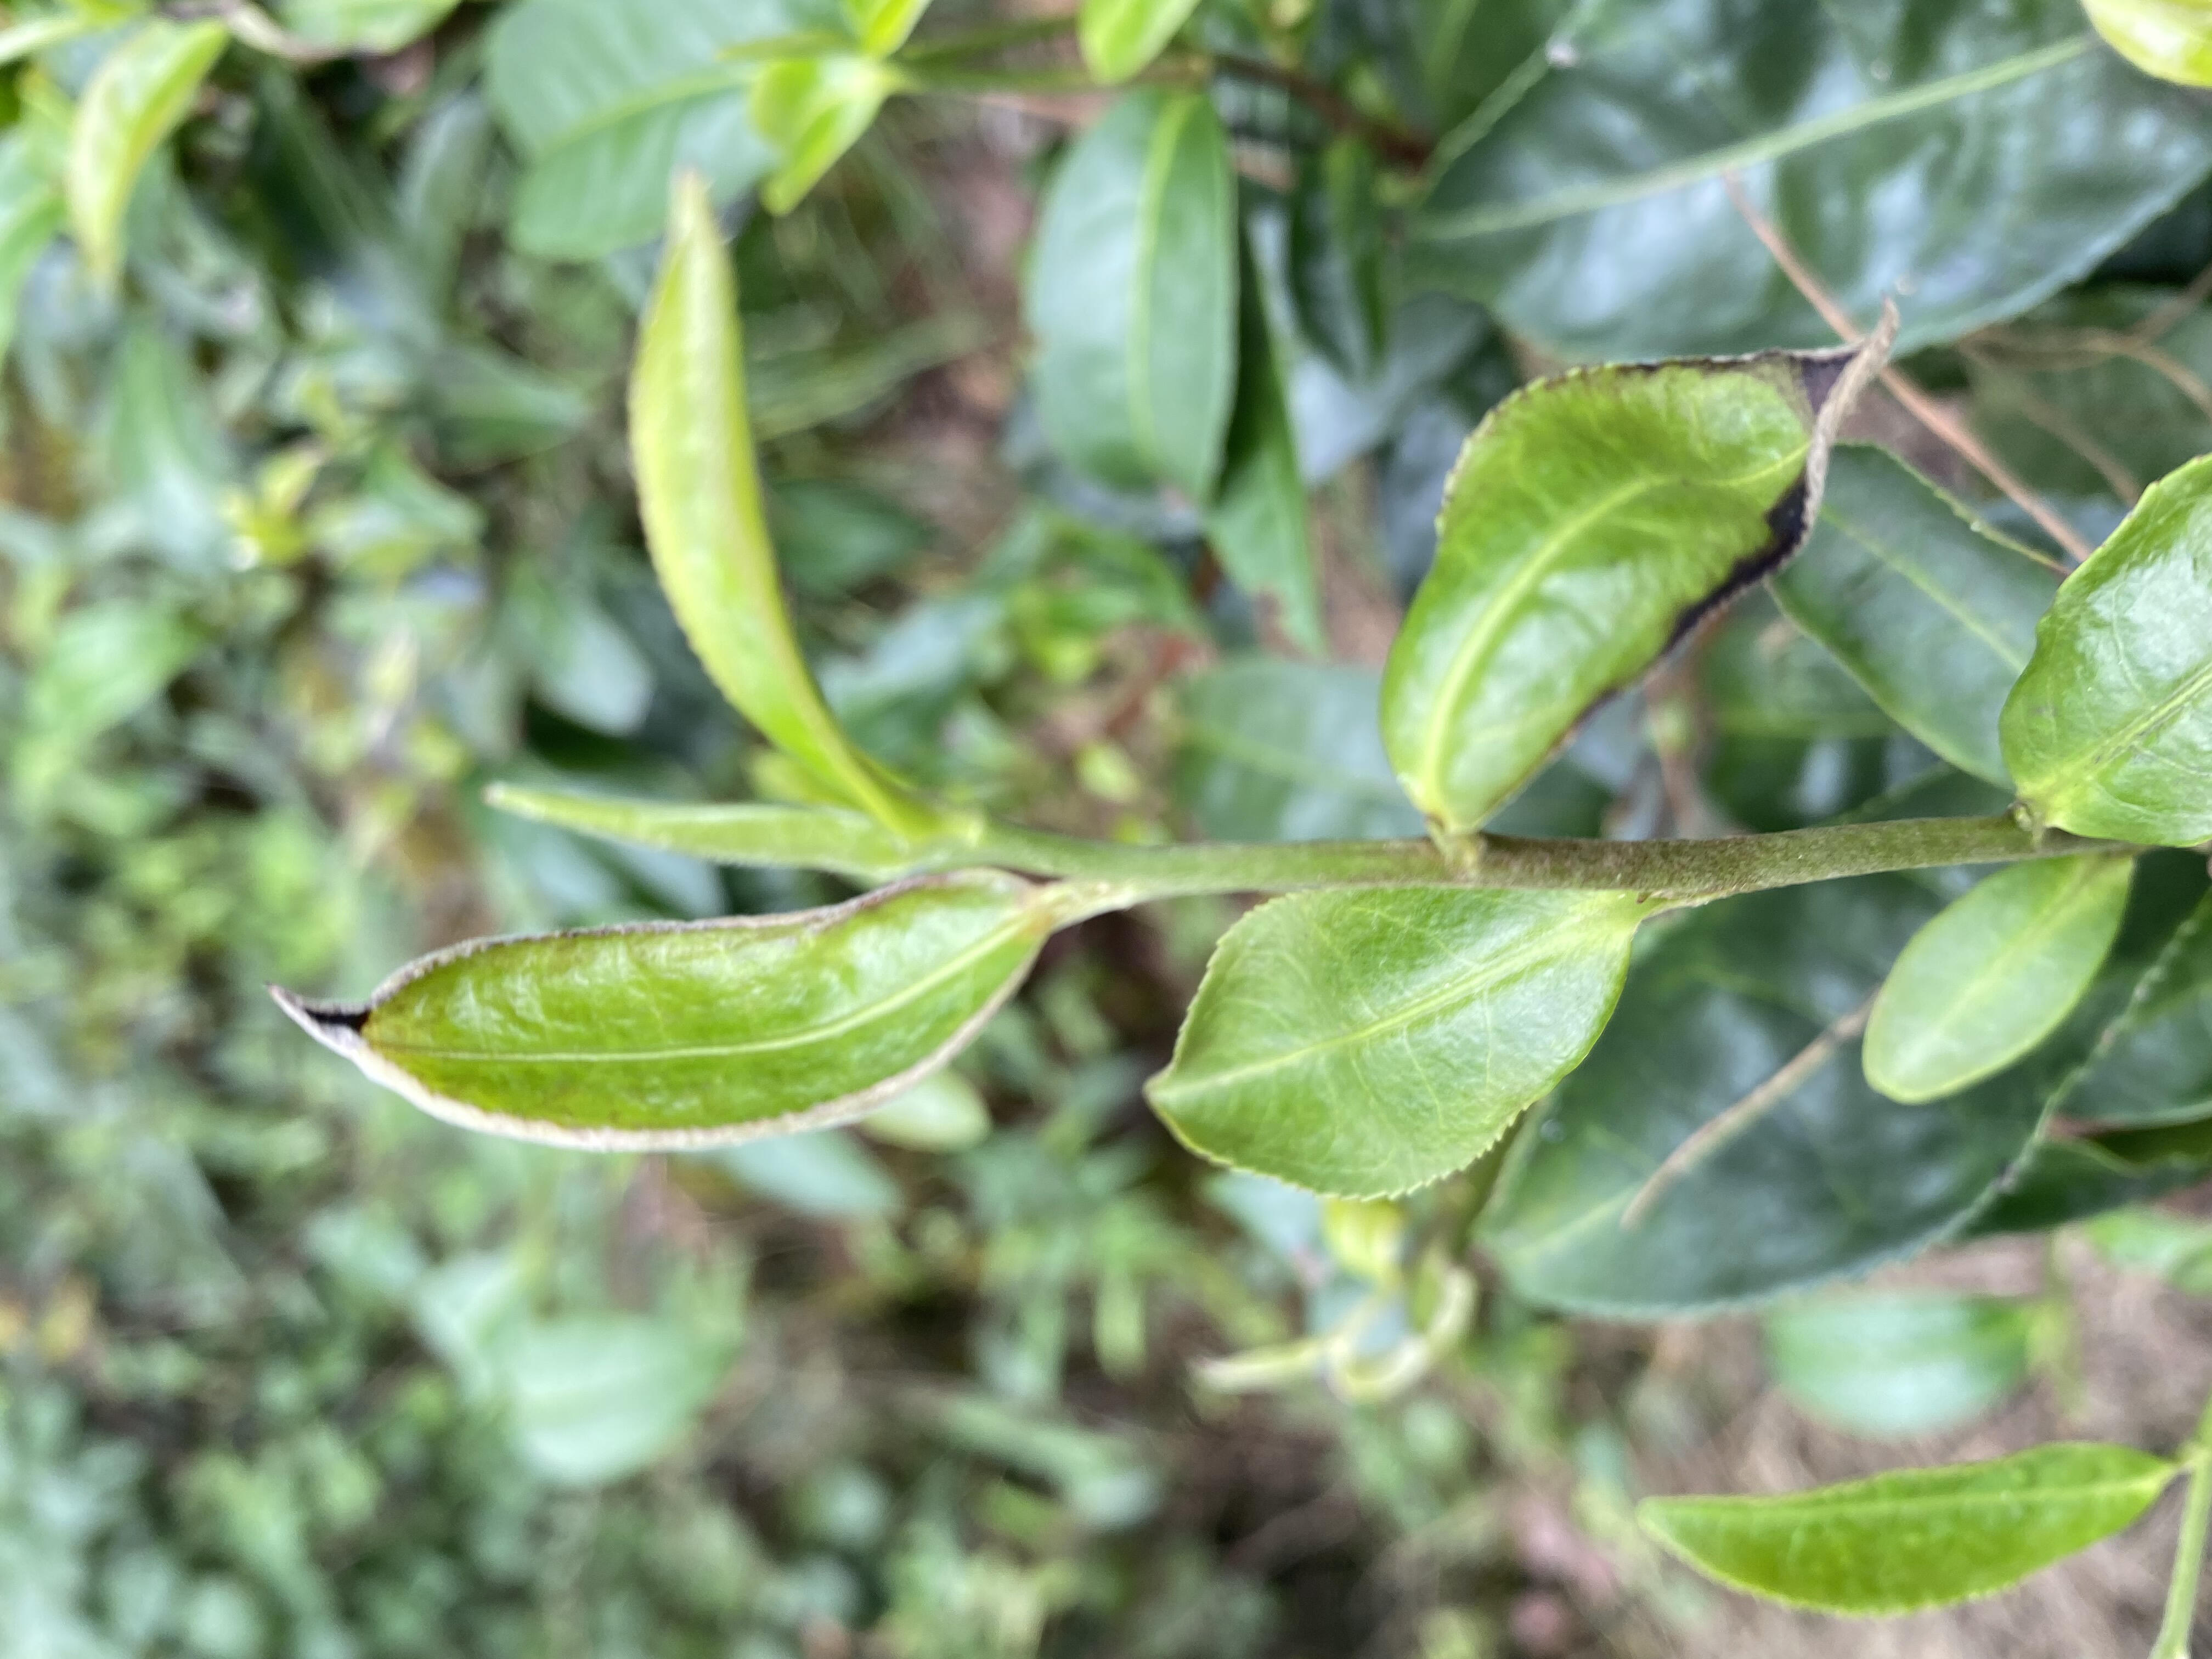healthy: (1139, 878, 1644, 1206), (1998, 451, 2210, 849), (1864, 850, 2137, 1108)
tanju_low: (1376, 295, 1905, 836), (261, 864, 1045, 1150)
